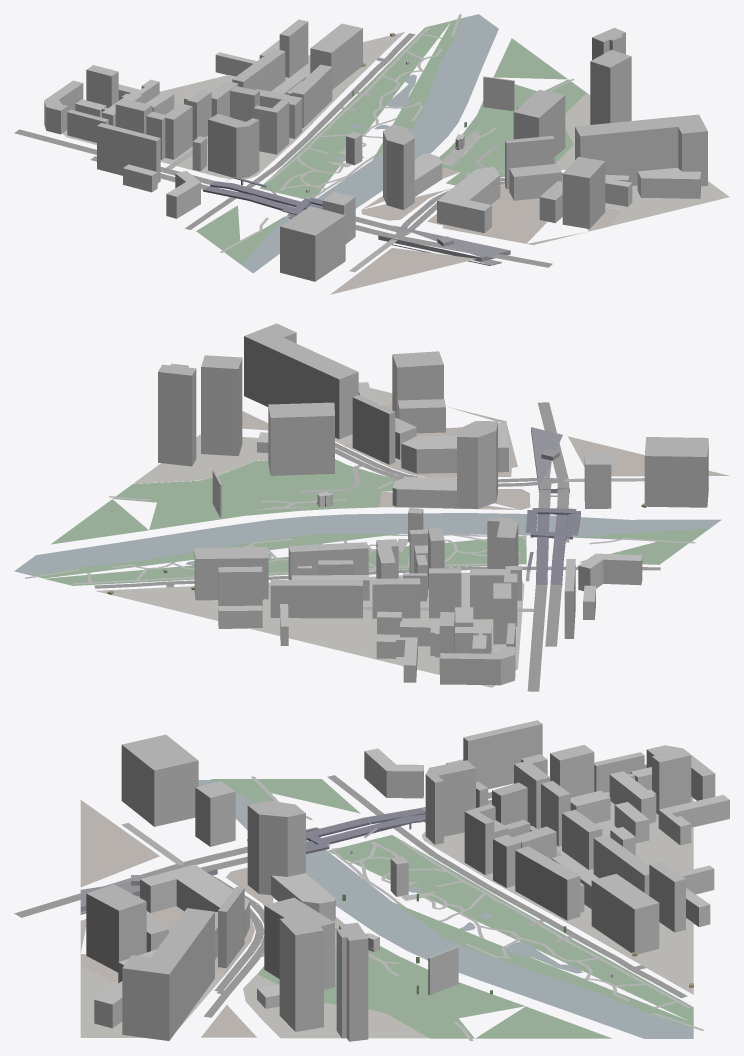
The picture shows the model from 3 angles, top to bottom: view 1: azimuth 30°, elevation 25°; view 2: azimuth 150°, elevation 25°; view 3: azimuth 270°, elevation 25°; orthographic projection. The views are drawn at different scales.
Size of the model in its own units: 549 by 102 by 584.
